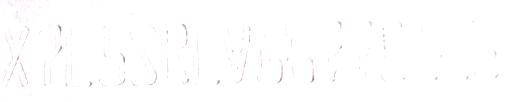letter: (435, 15, 471, 85), (374, 16, 408, 88), (218, 20, 255, 86), (157, 20, 192, 88), (468, 16, 502, 84), (188, 22, 222, 90), (344, 16, 377, 86), (284, 19, 319, 85), (0, 22, 35, 88), (96, 21, 128, 93), (127, 20, 159, 90), (315, 17, 347, 85), (32, 22, 64, 90), (253, 17, 284, 87), (407, 18, 438, 84), (63, 25, 94, 89)
